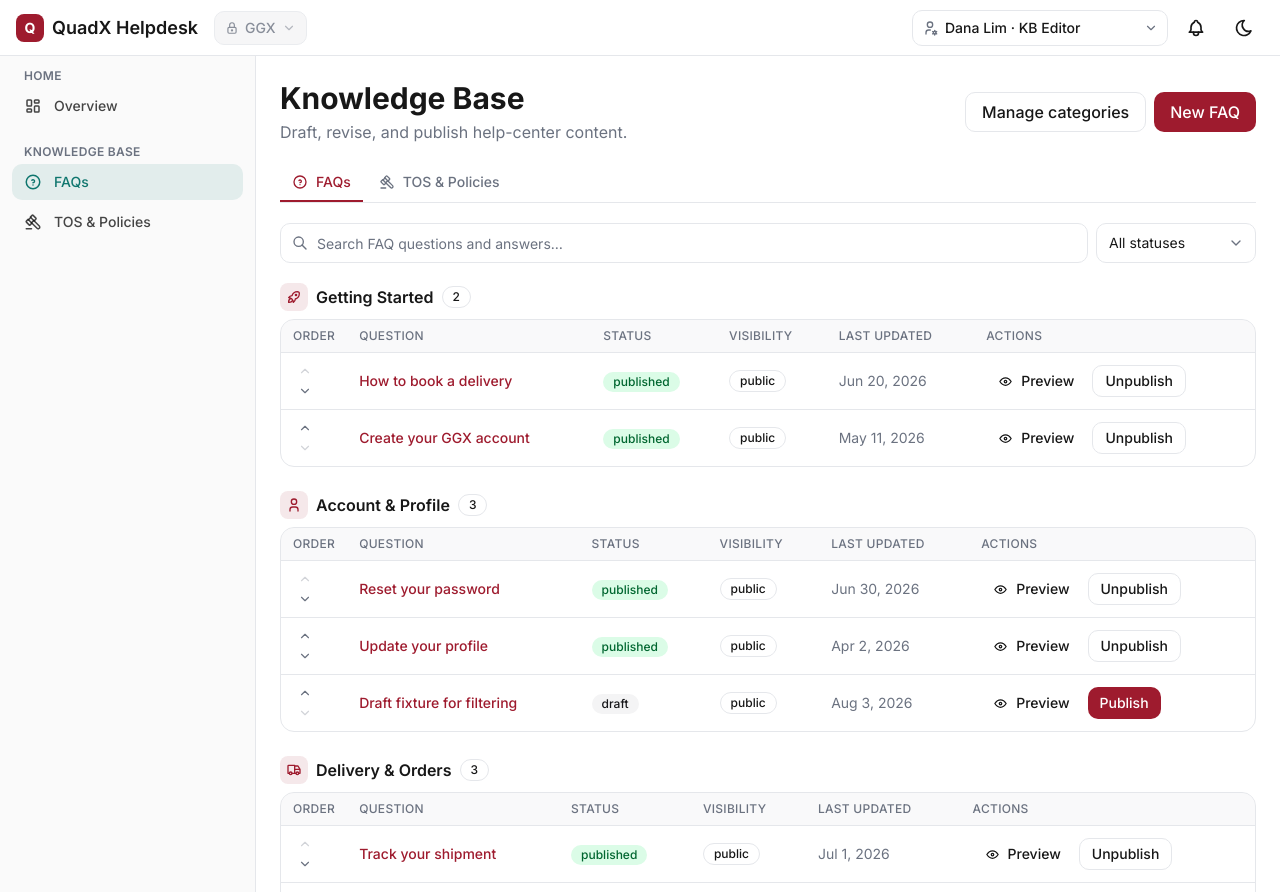
Test: KB administration › filters FAQs by search term and by status
Expected: the link "How to book a delivery" is shown, [359, 372, 512, 389]
Step 1. Type "password" into the search field named "search faqs" → (684, 243), box [280, 223, 1088, 263]
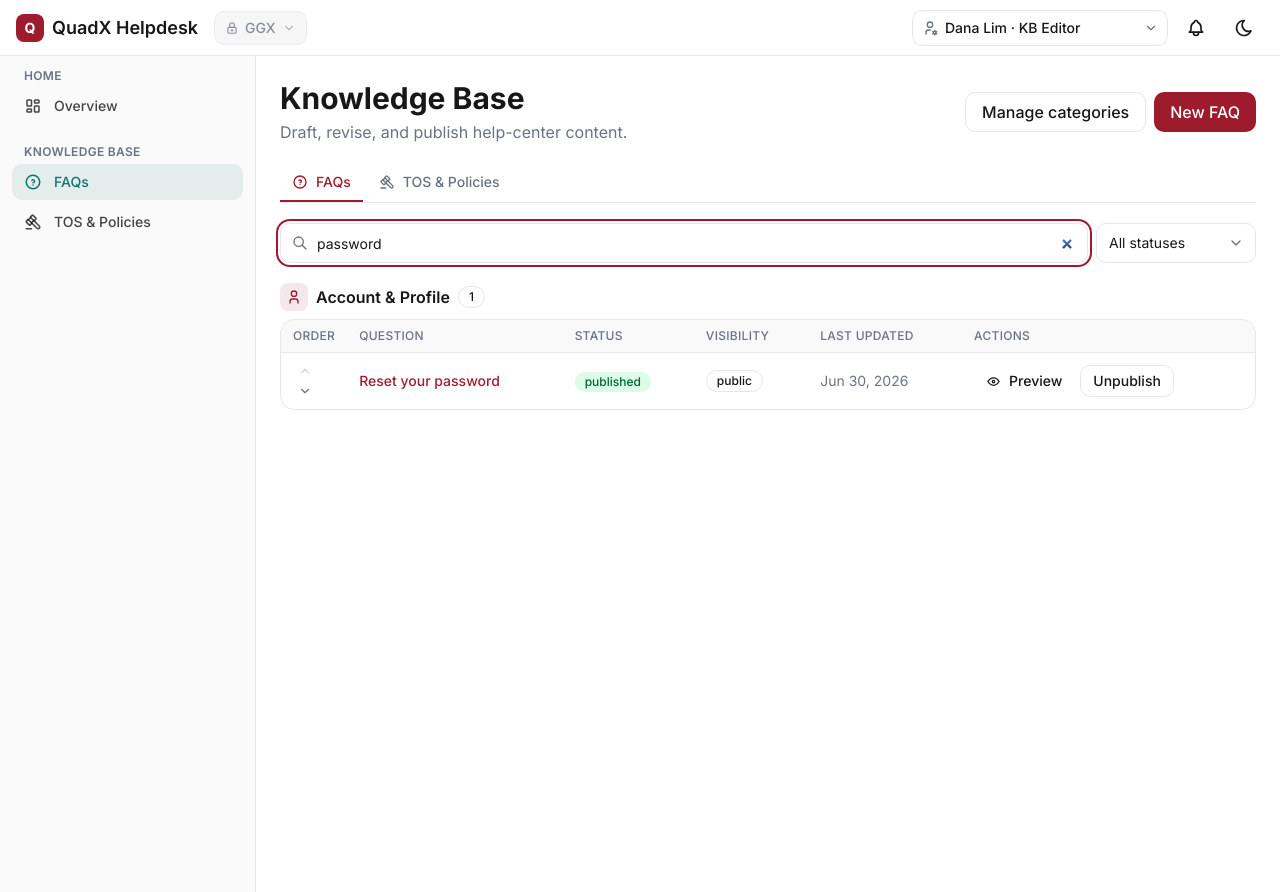
Expected: the link "Reset your password" is shown, [359, 372, 500, 389]
Now the link "How to book a delivery" is gone
Step 2. Clear the search field named "search faqs" → (684, 243), box [280, 223, 1088, 263]
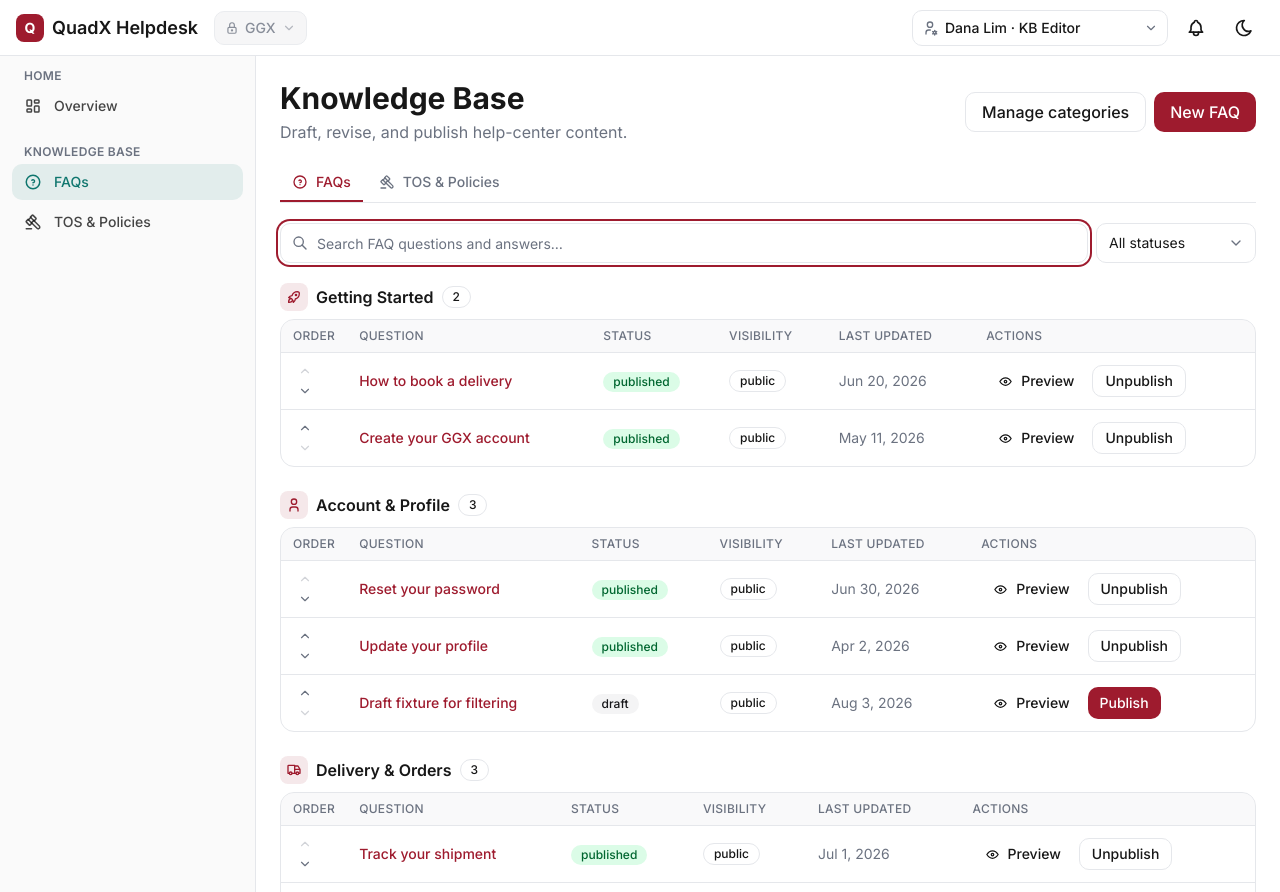
Step 3. Select "Draft" in the dropdown named "filter by status" → (1176, 243), box [1096, 223, 1256, 263]
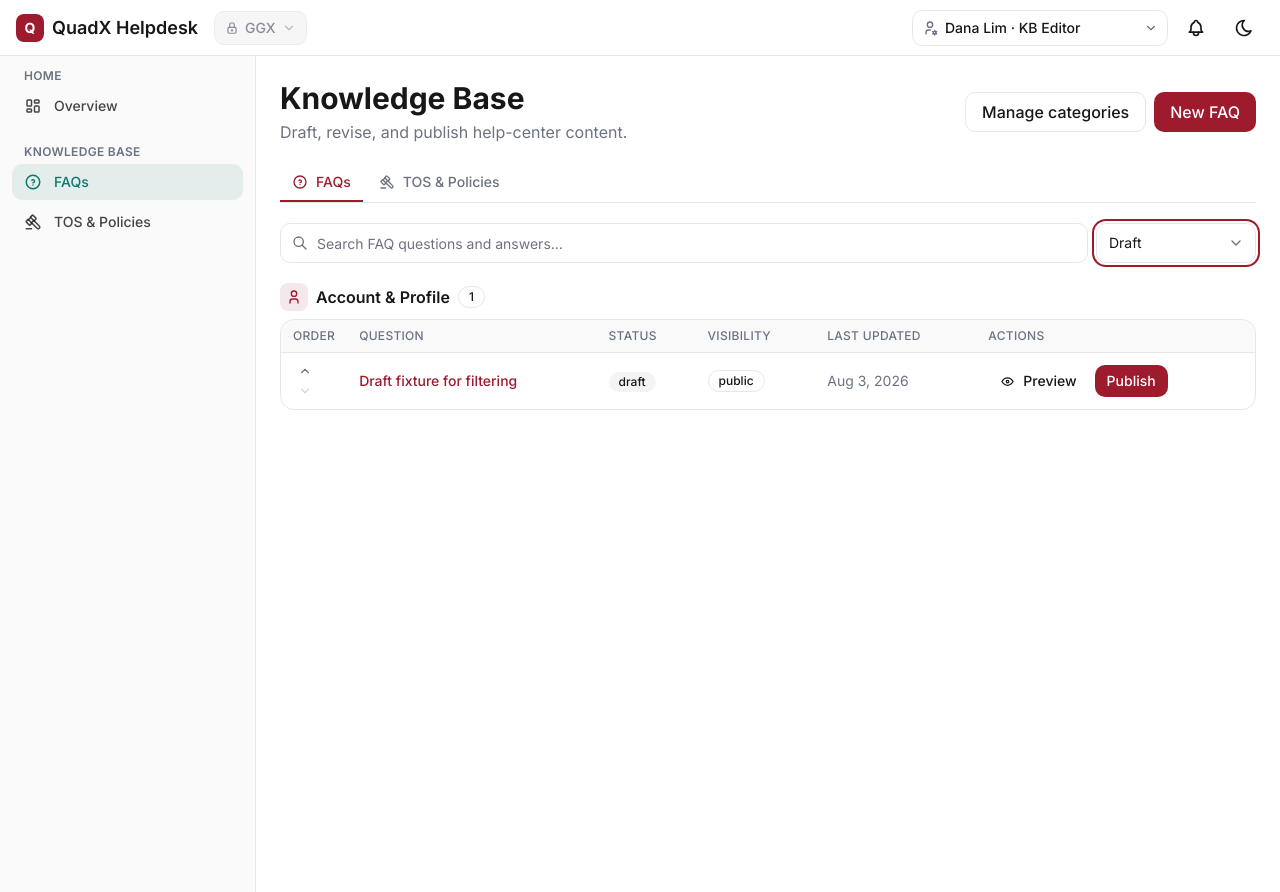
Now the link "Draft fixture for filtering" is shown, box [359, 372, 517, 389]
Now the link "Reset your password" is gone
